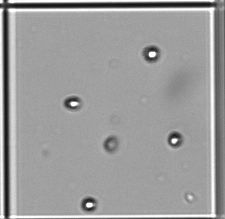Dead Cell: (104, 137, 118, 151)
Living Cell: (143, 46, 160, 60), (168, 132, 182, 147), (65, 96, 81, 109), (82, 197, 96, 211)
